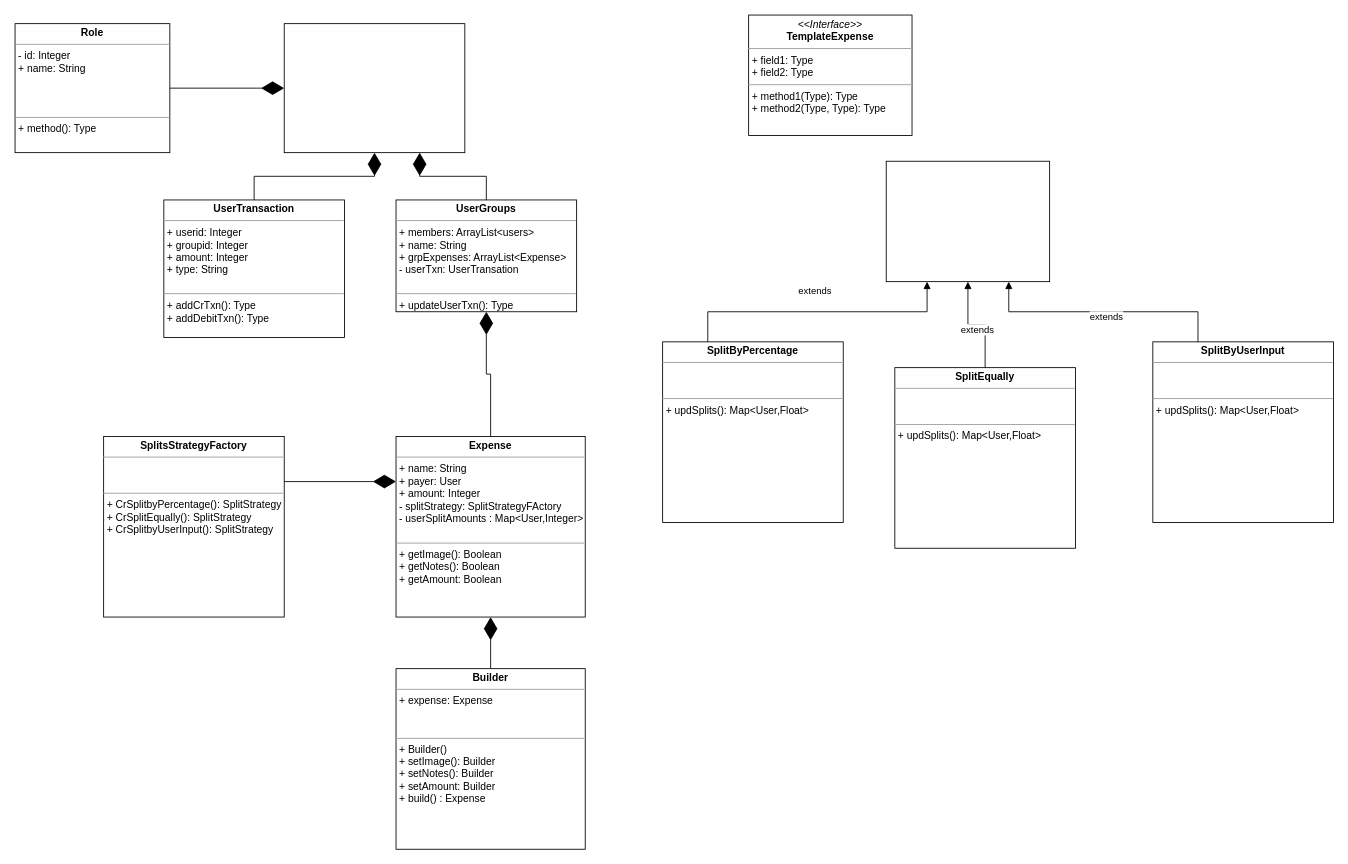
Some shapes in this 1348 by 864 pixel diagram are drawn without their labels. Here are the shapes that lost their labels. From the top down, the box of each, then its label:
(283, 23, 465, 153): User + name: String + id: Integer + emailid: String + role: id + method(): Type
(885, 160, 1050, 282): SplitStrategy + usersplits: Map<User,Float> + updSplits(): Type
